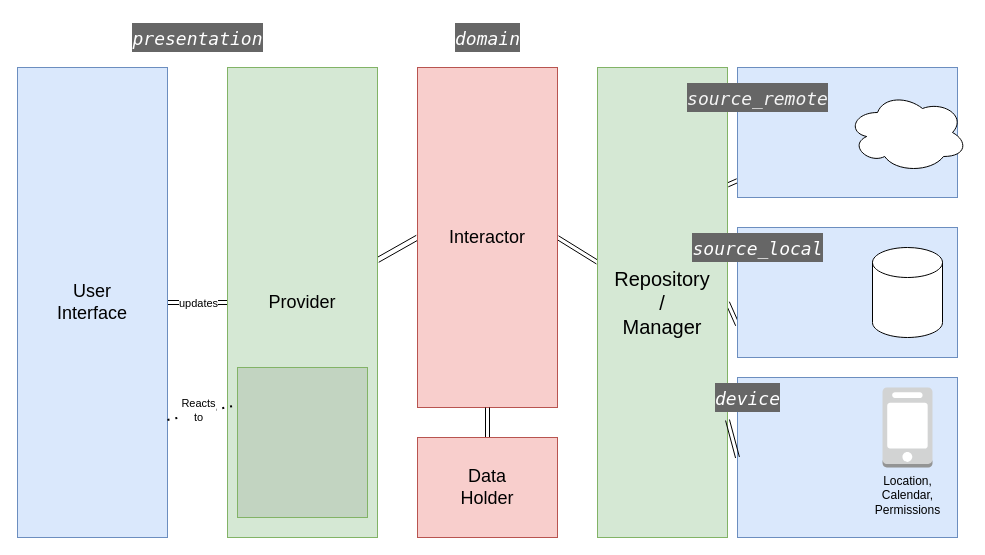
Image size: 985x555. Some labels were removed from this diagram. The shapes that lost their labels are listed below. From the top down, each one's box as (x1, y1, x2, y2) in pixels, then its label:
(846, 92, 968, 172): API, Sockets
(872, 246, 942, 338): DB, Shared Preferences
(236, 366, 368, 518): View State
